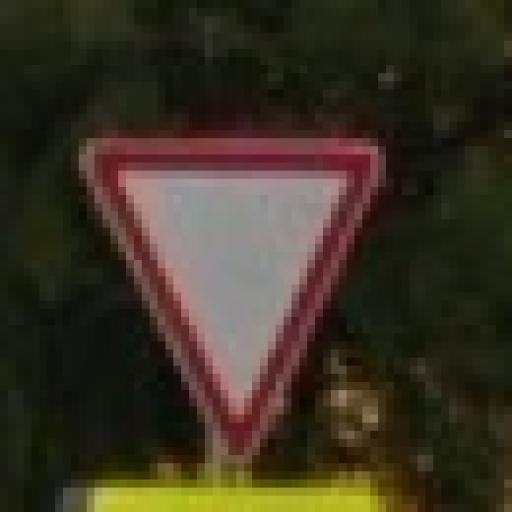traffic_sign: (80, 131, 387, 464)
